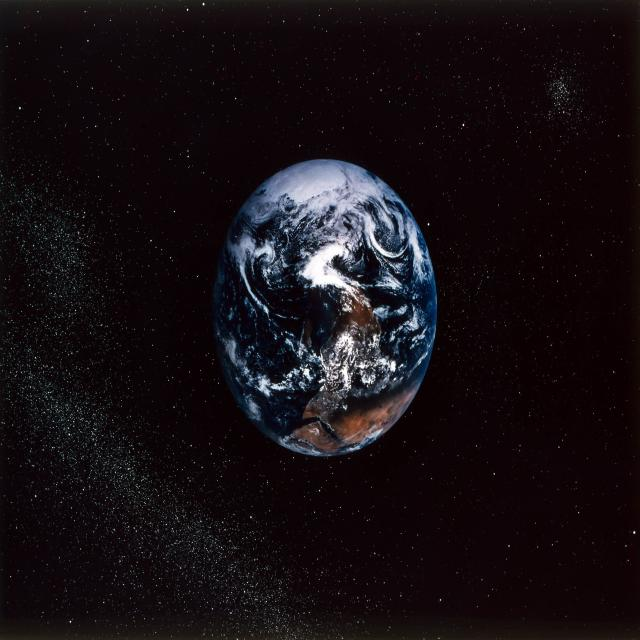Earth: (212, 157, 438, 460)
